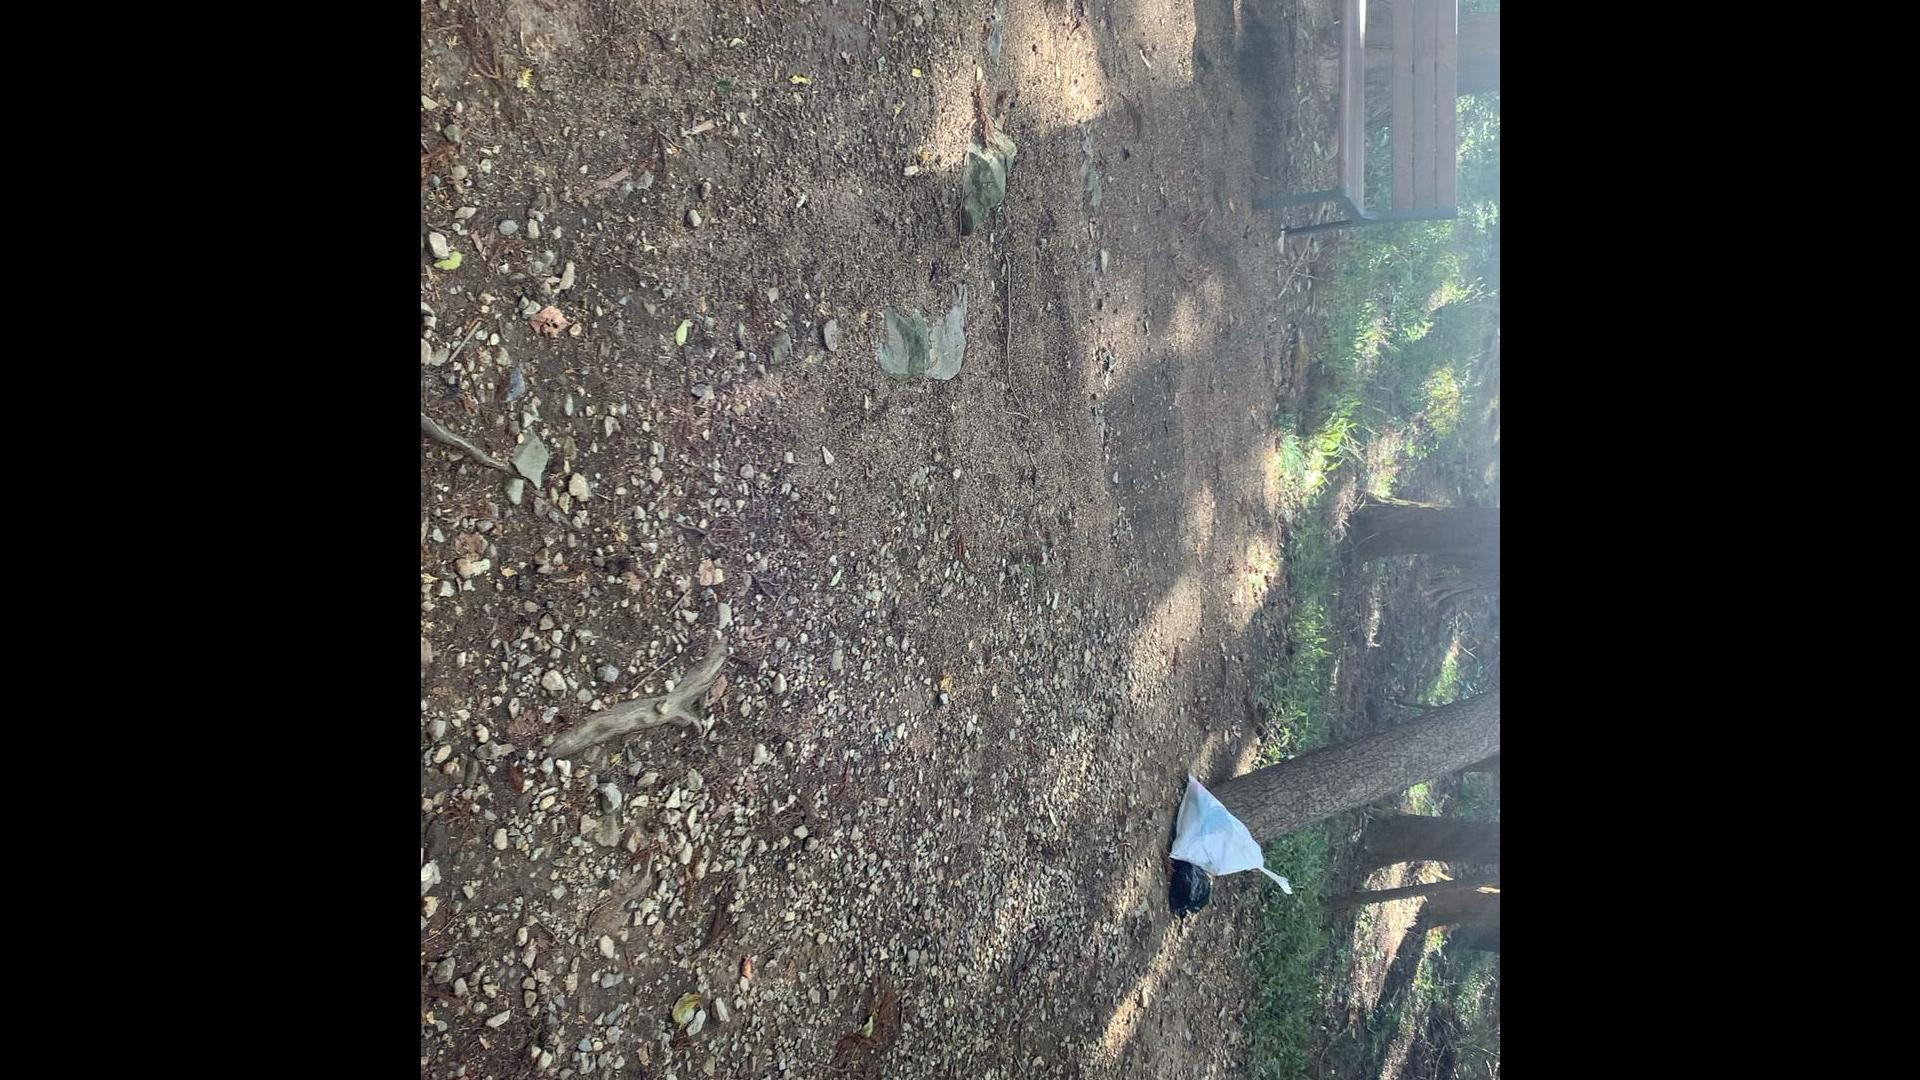black_bag: (1167, 855, 1218, 918)
white_bag: (1164, 765, 1300, 893)
